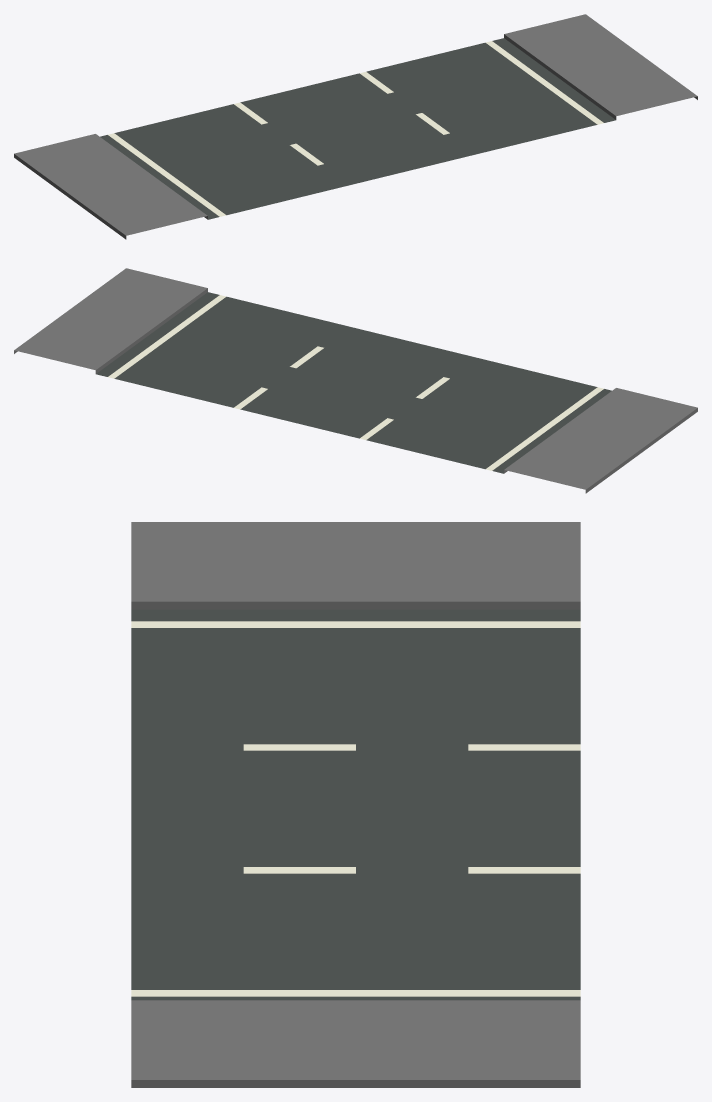
The model's file is Road_1.fbx.
3 renders of one model, top to bottom at view 1: azimuth 30°, elevation 25°; view 2: azimuth 150°, elevation 25°; view 3: azimuth 270°, elevation 25°, orthographic. The views are drawn at different scales.
Parts seen in each view (by area): view 1: Road_1; view 2: Road_1; view 3: Road_1.
Boxes of the visible parts, x1,y1,x2,y2 form: Road_1: [14, 14, 697, 239]; Road_1: [14, 268, 697, 493]; Road_1: [131, 522, 580, 1087].
Bounding box in the file's own units: 29.4 × 0.1948 × 10.
Materials: 1 (1 with a texture image).
